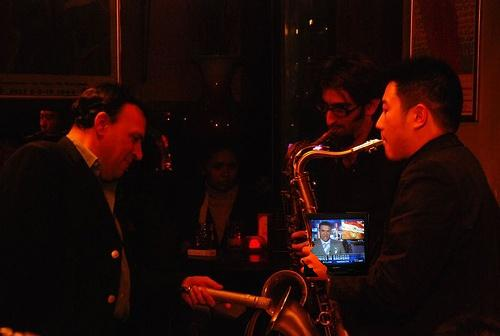tampered: (302, 213, 369, 277)
